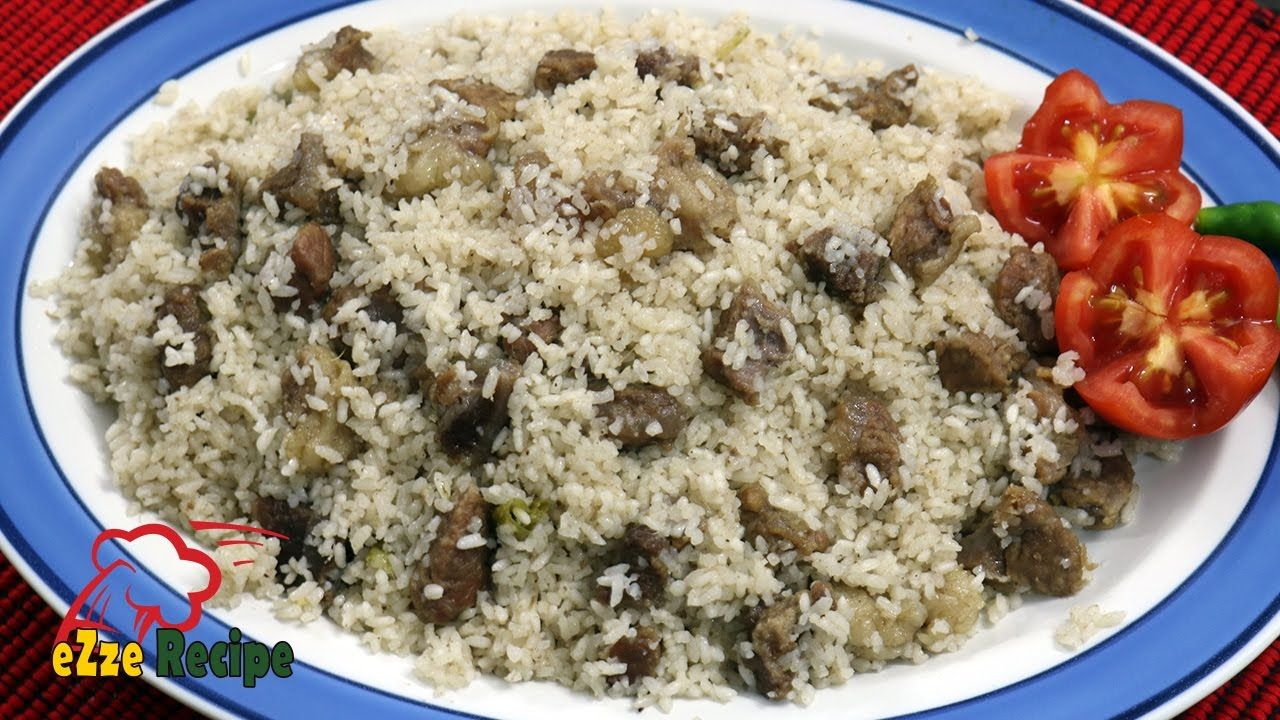tehari: (91, 7, 1250, 633)
